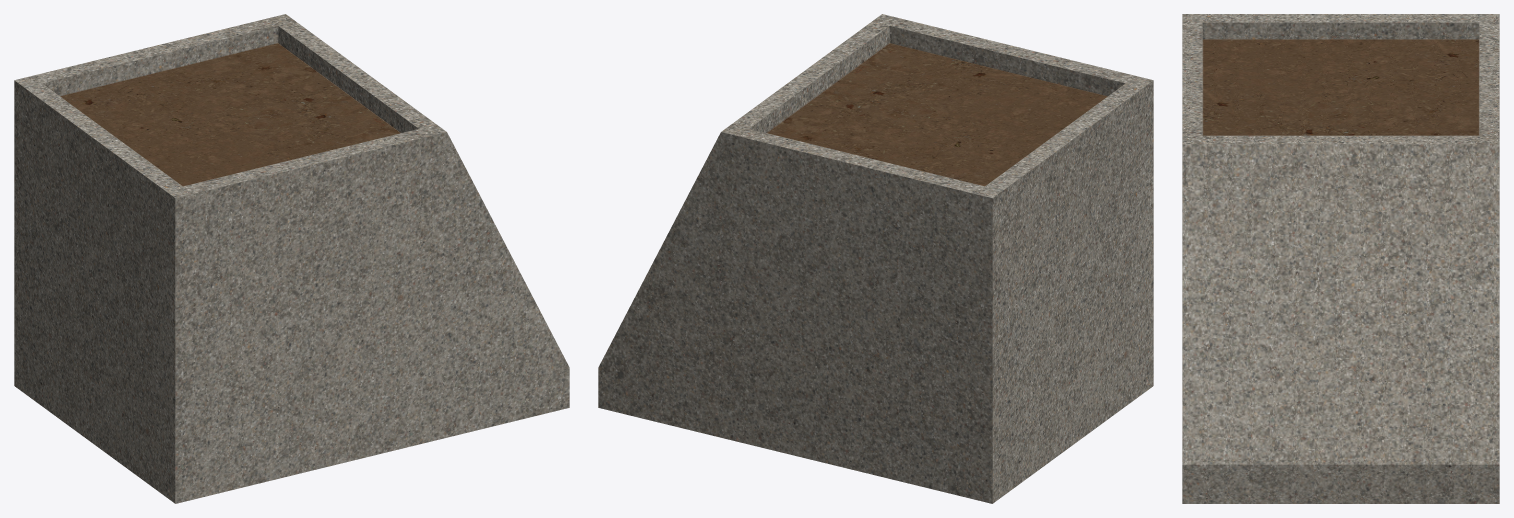
The model's file is Kvetinac_Beton.fbx.
3 views of the same model, side by side, from view 1: azimuth 30°, elevation 25°; view 2: azimuth 150°, elevation 25°; view 3: azimuth 270°, elevation 25° (orthographic).
Visible parts, largest first — view 1: Kvetinac_Beton; view 2: Kvetinac_Beton; view 3: Kvetinac_Beton.
Part boxes in pixels (x1,y1,x2,y2): Kvetinac_Beton: [14, 14, 569, 503]; Kvetinac_Beton: [598, 14, 1153, 503]; Kvetinac_Beton: [1182, 14, 1499, 503].
Size of the model in its own units: 107 by 79.45 by 75.98.
